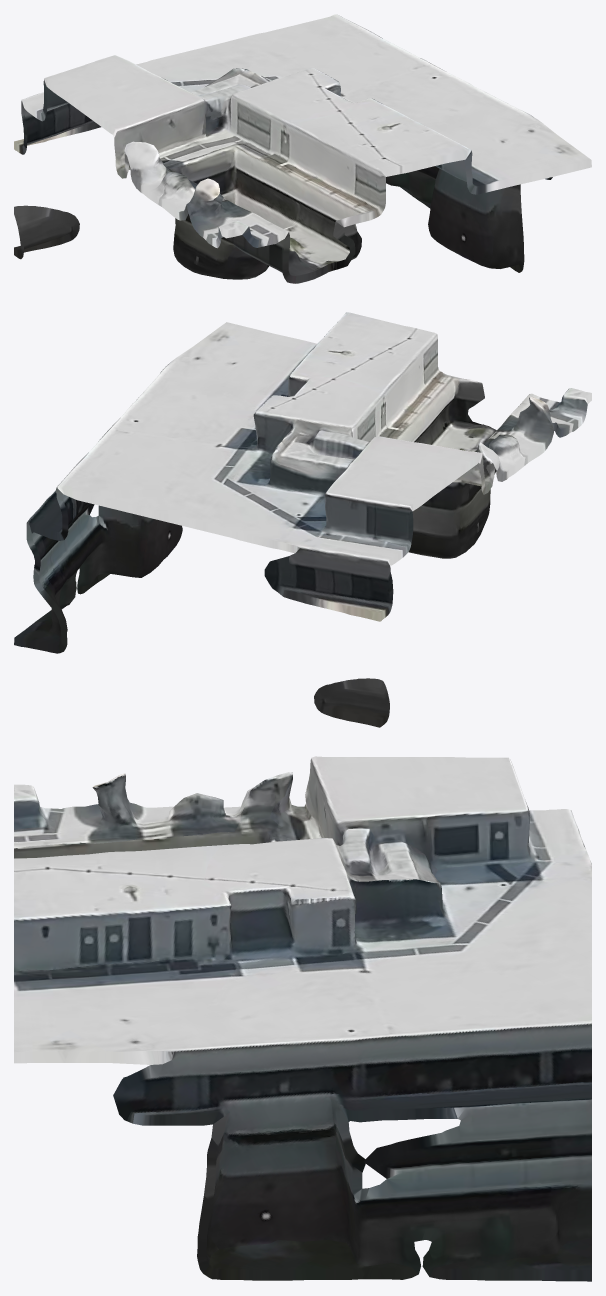
The model's file is z20-167772-405202-h0-yup-uvflip-v3-world.glb.
The picture shows the model from 3 angles, top to bottom: view 1: azimuth 30°, elevation 25°; view 2: azimuth 150°, elevation 25°; view 3: azimuth 270°, elevation 25°; orthographic projection. The views are drawn at different scales.
Bounding box in the file's own units: 30.2 × 16.52 × 30.32.
Materials: 1 (1 with a texture image).
